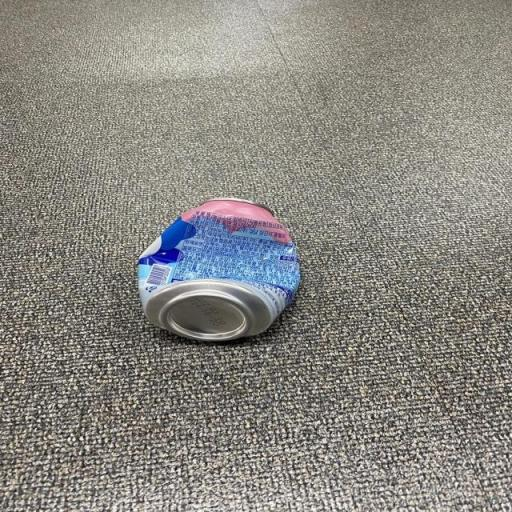metal: (48, 154, 370, 340)
